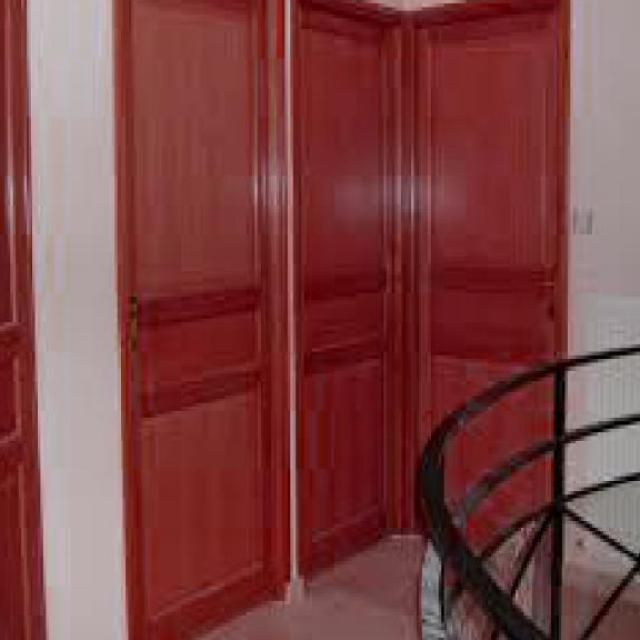door: (105, 3, 275, 638), (290, 2, 406, 588)
